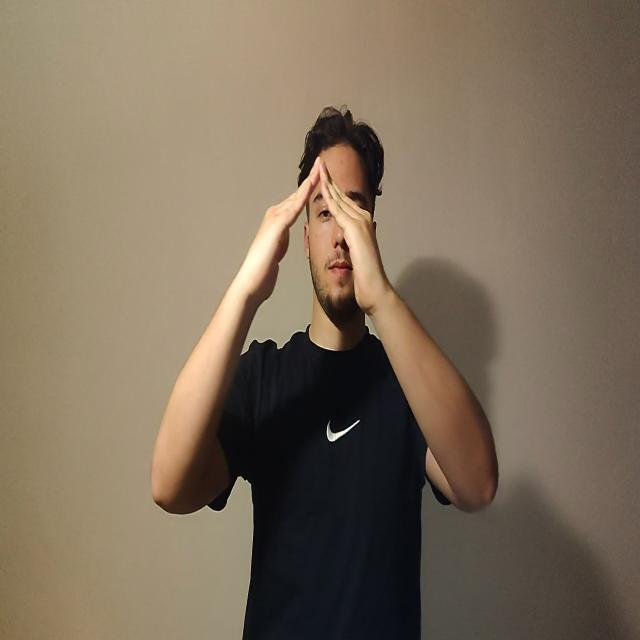house: (238, 157, 384, 313)
